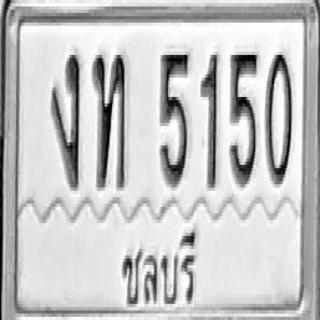A07: (50, 49, 80, 188)
A23: (92, 49, 127, 188)
N00: (264, 48, 292, 184)
N01: (200, 50, 219, 189)
N05: (159, 47, 189, 186), (229, 47, 259, 186)
P13: (116, 223, 196, 320)
